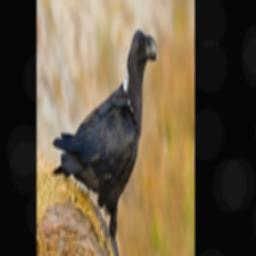Crow: (52, 29, 159, 256)
